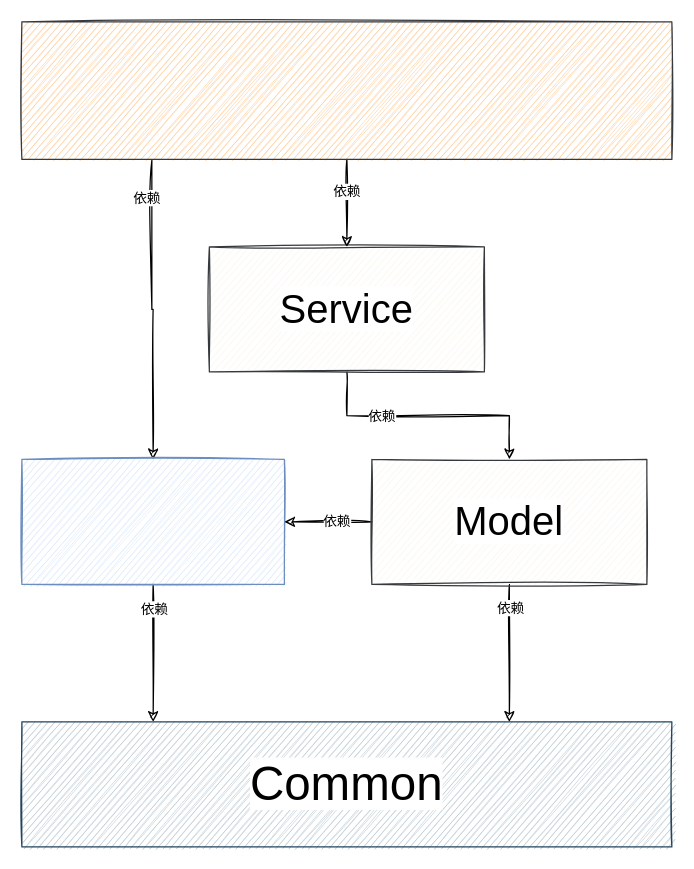
Some shapes in this 694 by 869 pixel diagram are drawn without their labels. Each missing label, with the centre of its shape:
Components: (x=152, y=521)
Front: (x=346, y=90)
